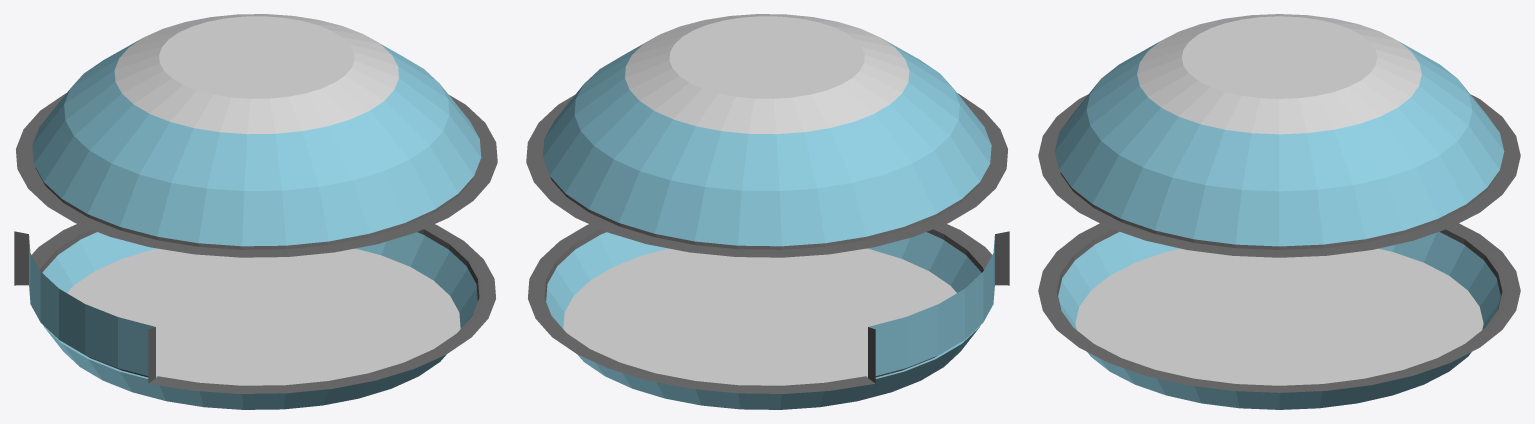
Rendered from UFO.gltf.
The picture shows the model from 3 angles, left to right: view 1: azimuth 30°, elevation 25°; view 2: azimuth 150°, elevation 25°; view 3: azimuth 270°, elevation 25°; orthographic projection.
Parts seen in each view (by area): view 1: roof-floor; view 2: roof-floor; view 3: roof-floor.
Boxes of the visible parts, <box> form: roof-floor: <box>14,14,497,409</box>; roof-floor: <box>526,14,1009,409</box>; roof-floor: <box>1038,14,1520,409</box>.
Bounding box in the file's own units: 3.38 × 2.06 × 3.38.
